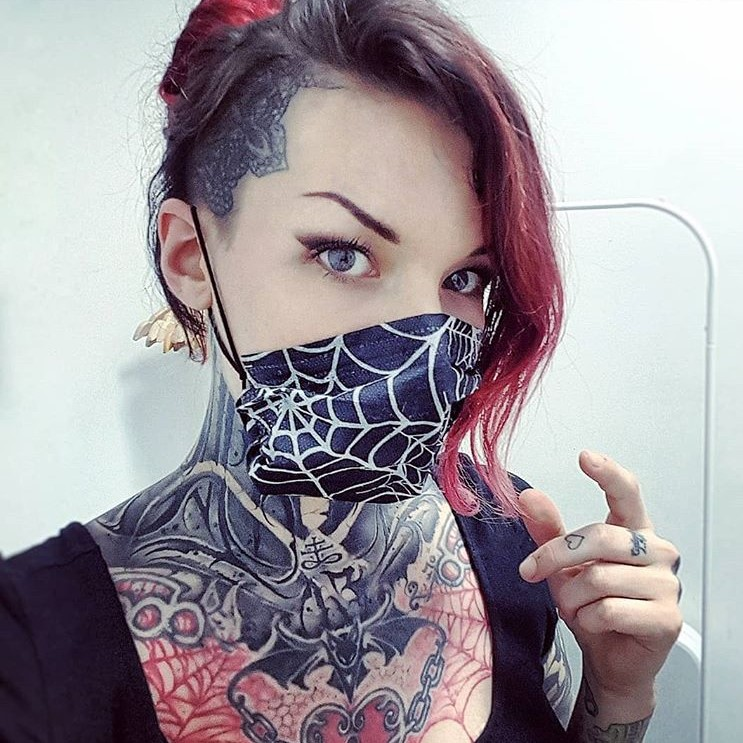face_with_mask: (154, 0, 560, 504)
